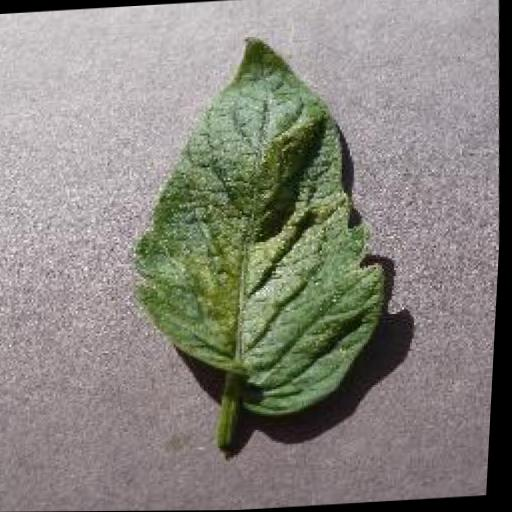Spider Mites: (119, 25, 406, 426)
